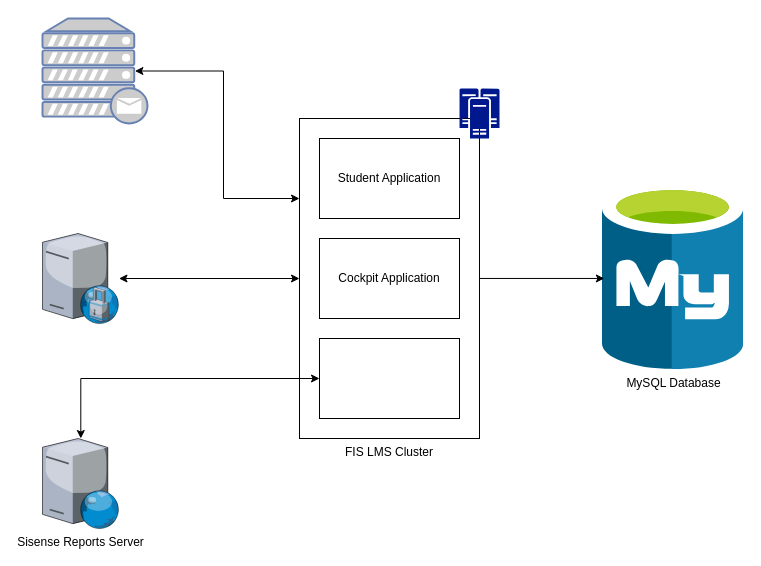
The diagram is 761 pixels wide and 566 high, and some of its shapes have lost their labels. Here are the shapes that lost their labels. From the top down, the centre of each, then its label:
[94,70]: FIS Email Server
[80,278]: Proxy Server
[389,378]: Admin Application
